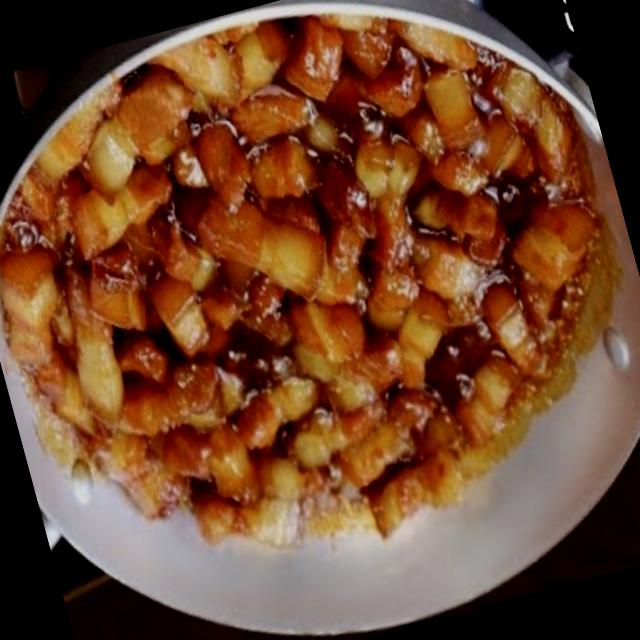kho tieu: (0, 14, 609, 547)
